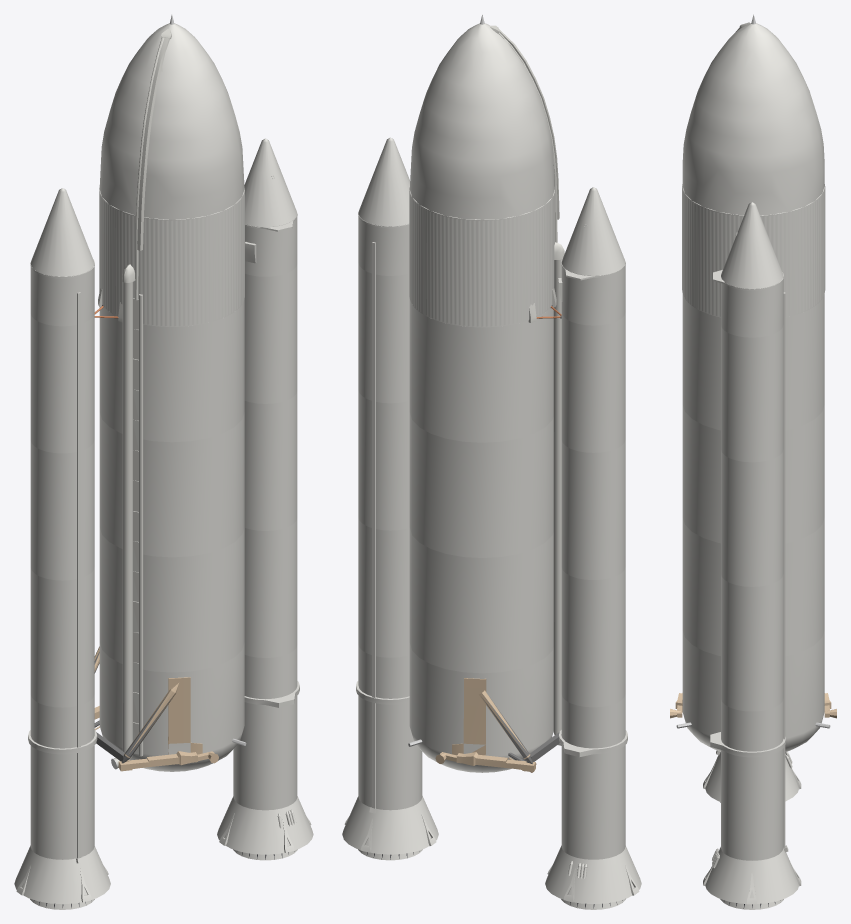
Rendered from shuttle-sts-stack.glb.
3 renders of one model, left to right at view 1: azimuth 30°, elevation 25°; view 2: azimuth 150°, elevation 25°; view 3: azimuth 270°, elevation 25°, orthographic. The views are drawn at different scales.
Parts seen in each view (by area): view 1: body (×3); view 2: body (×3); view 3: body (×3).
Boxes of the visible parts, left/top/right/bottom form: body (×3): left=14, top=15, right=313, bottom=909; body (×3): left=342, top=14, right=641, bottom=909; body (×3): left=670, top=14, right=836, bottom=909.
Bounding box in the file's own units: 19.39 × 54.64 × 9.86.
